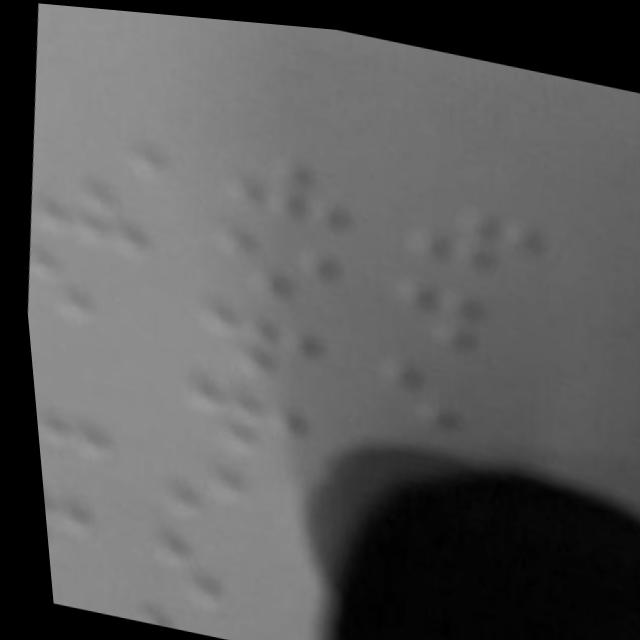braiile: (350, 342, 526, 455), (373, 265, 551, 371), (154, 372, 320, 484), (378, 188, 556, 291), (207, 136, 375, 241), (185, 211, 345, 321), (166, 293, 332, 398), (123, 526, 293, 627), (139, 452, 297, 551), (18, 163, 167, 267)
